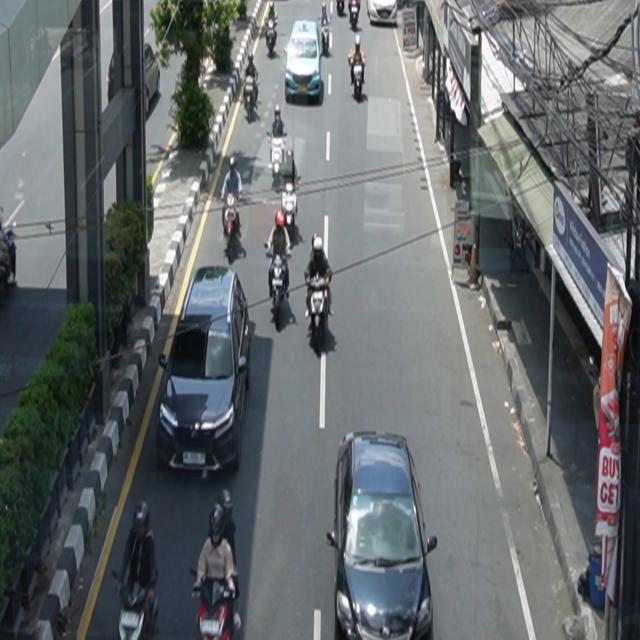car: (327, 431, 439, 640), (157, 265, 252, 480), (108, 41, 161, 118), (285, 20, 323, 105)
